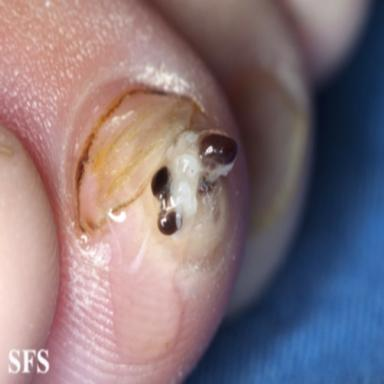Tungiasis: (151, 131, 238, 263)
